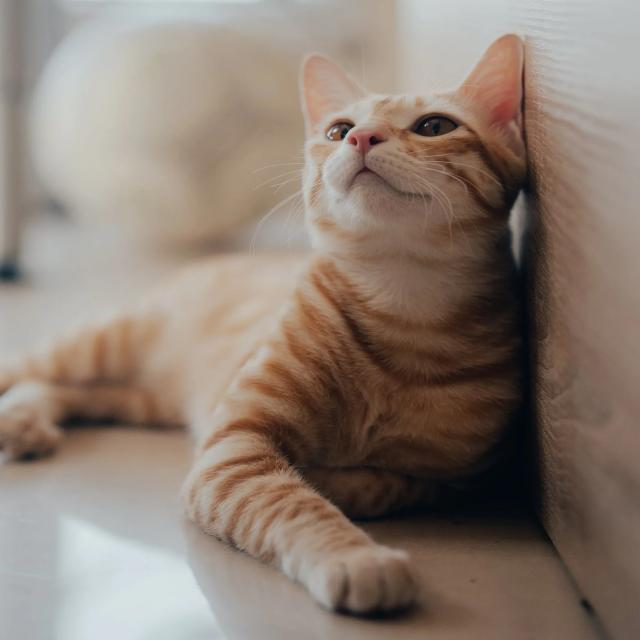cat: (0, 27, 552, 621)
